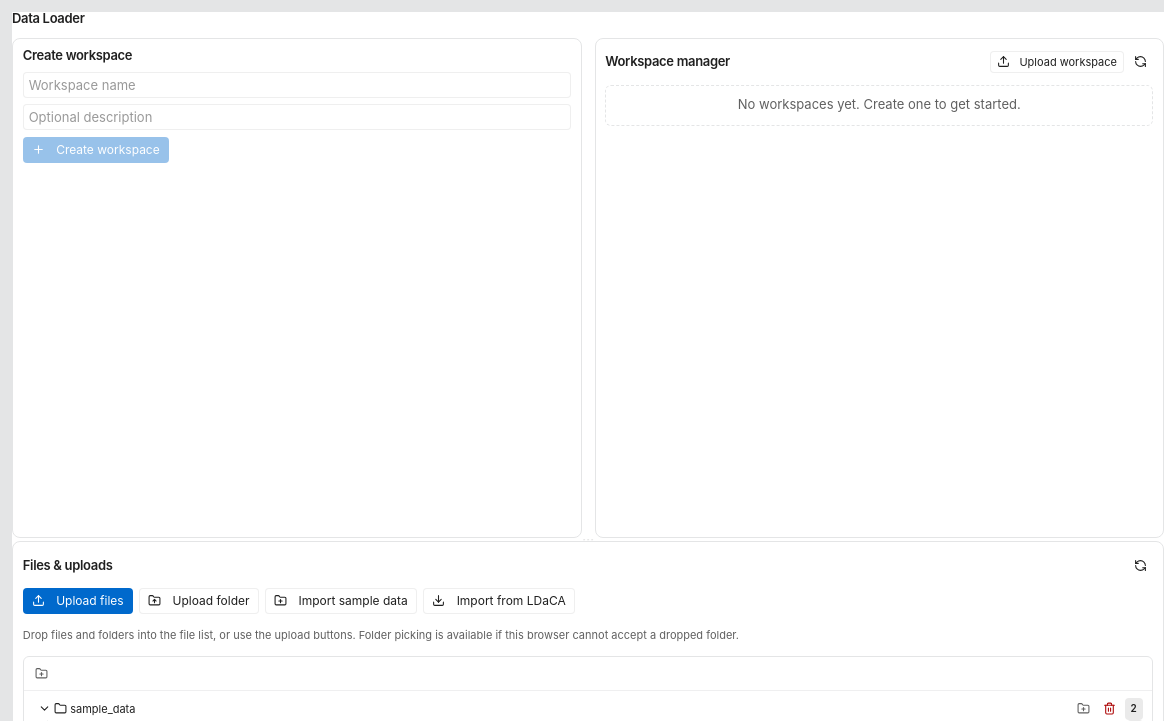
Scenario: DataLoaderFeature citation UI › shows automatic post-create Load failures on the created Workspace card
Type "New Workspace" into the field with placeholder "Workspace name" at (297, 84), box left=23, top=72, right=571, bottom=98
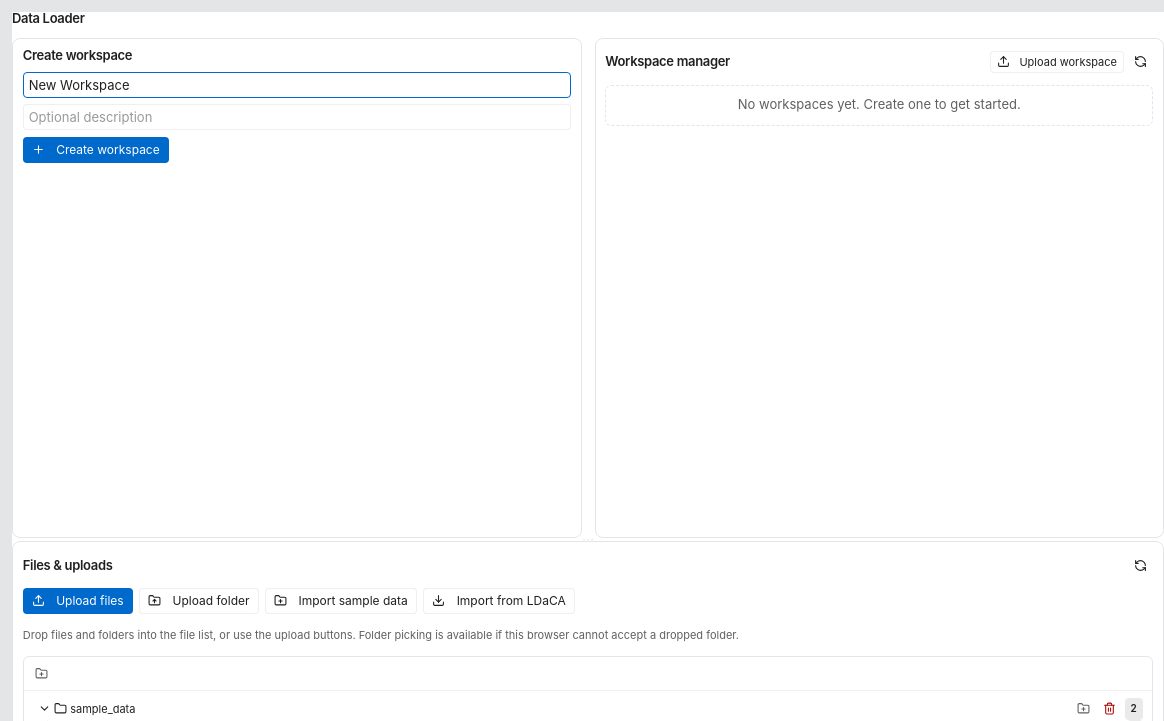
Click the button "Create workspace" at (96, 150), box left=23, top=136, right=169, bottom=162
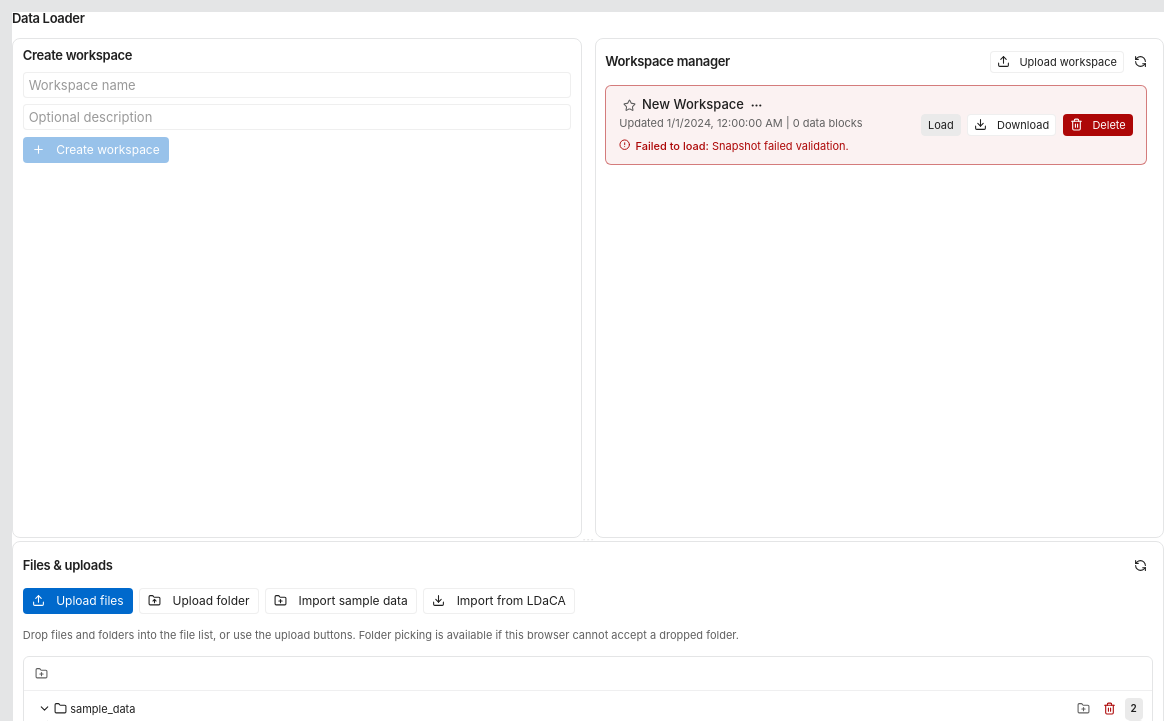
Expected: the message reads "Failed to load: Snapshot failed validation.", left=619, top=138, right=863, bottom=154
